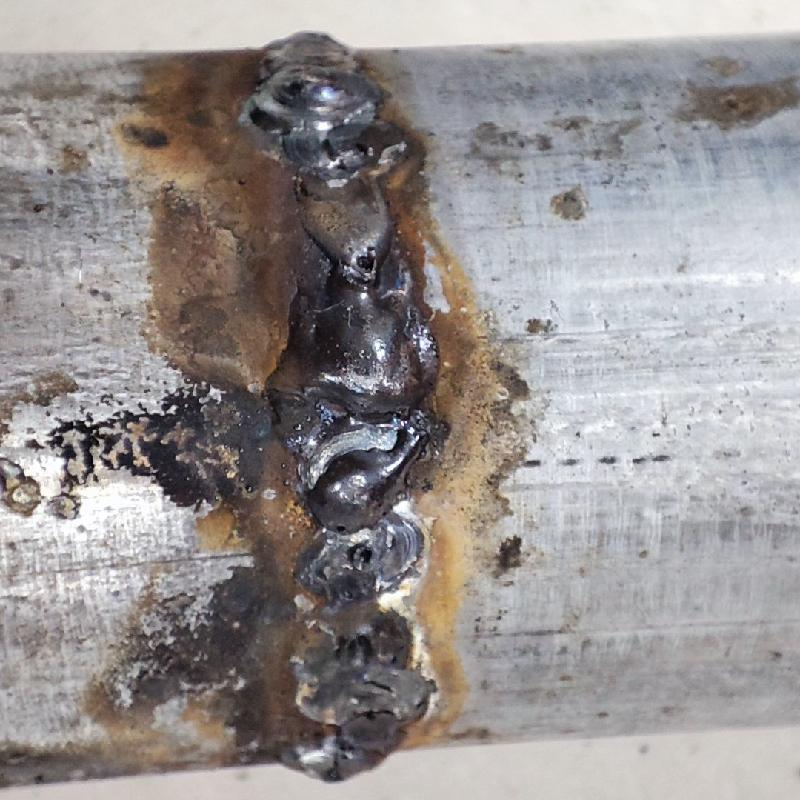Not_fully_soldered: (295, 536, 448, 745), (279, 135, 403, 284)
Surface_pores: (338, 234, 389, 283)
Weld: (261, 284, 442, 536)
wrong_size: (246, 30, 391, 130)
